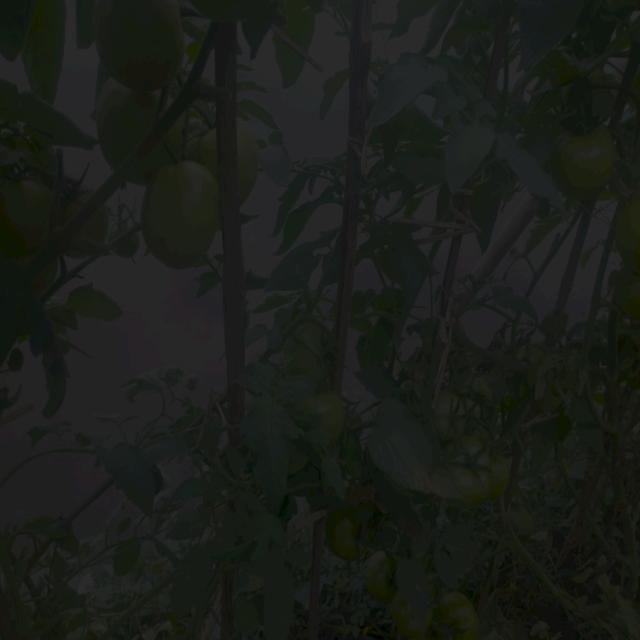tomato: (143, 159, 222, 261), (98, 4, 191, 85), (98, 84, 173, 145), (3, 175, 56, 240), (556, 134, 615, 188), (450, 448, 501, 506), (284, 321, 336, 371), (432, 394, 484, 437), (441, 589, 483, 640), (332, 519, 372, 569), (239, 131, 267, 196), (362, 549, 399, 598), (318, 394, 347, 448), (613, 199, 640, 251), (193, 127, 223, 172), (76, 213, 102, 254), (64, 182, 91, 216), (401, 610, 432, 637), (151, 486, 176, 511)
